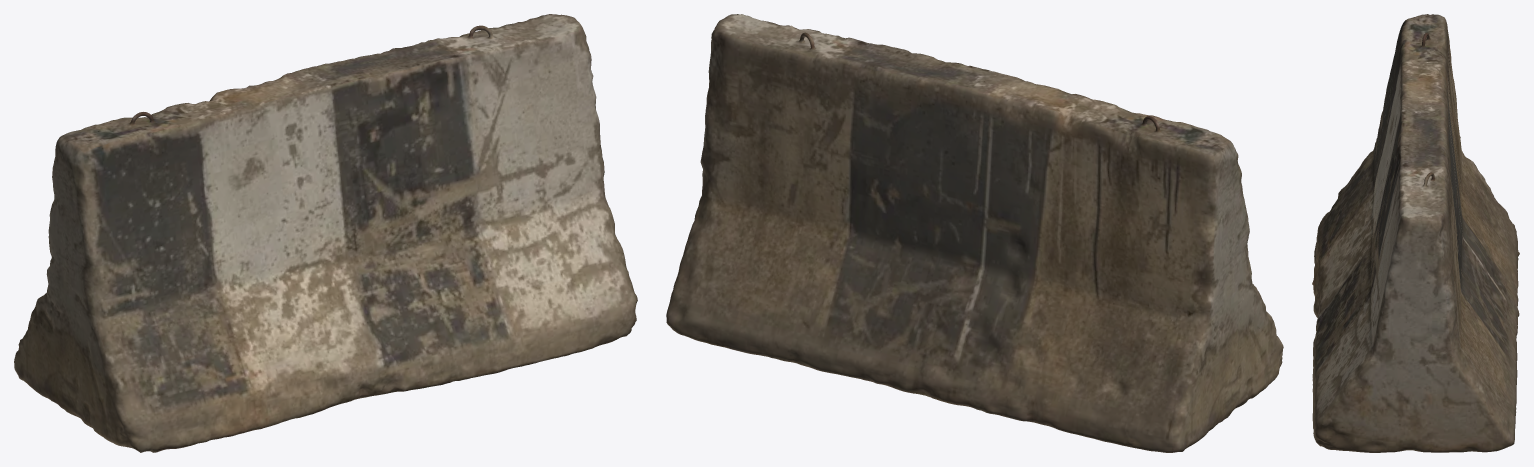
The model's file is barrier.glb.
The picture shows the model from 3 angles, left to right: view 1: azimuth 30°, elevation 25°; view 2: azimuth 150°, elevation 25°; view 3: azimuth 270°, elevation 25°; orthographic projection. The views are drawn at different scales.
Visible parts, largest first — view 1: concrete_road_barrier; view 2: concrete_road_barrier; view 3: concrete_road_barrier.
Part boxes in pixels (x1,y1,x2,y2): concrete_road_barrier: (14,14,637,452); concrete_road_barrier: (666,14,1283,452); concrete_road_barrier: (1312,14,1519,452).
Bounding box in the file's own units: 1.55 × 0.831 × 0.6387.
1 material, 1 textured.
